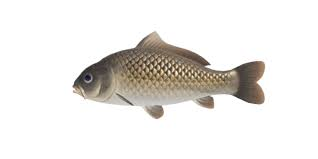carp: (71, 31, 266, 120)
